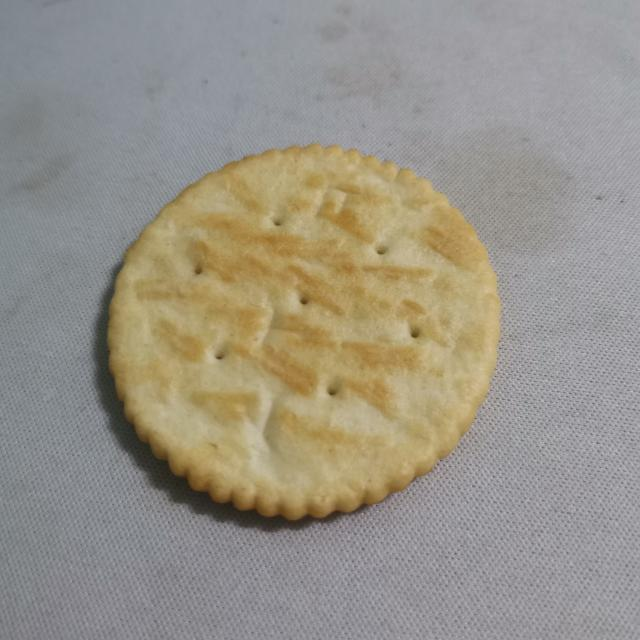Intact: (95, 134, 511, 535)
